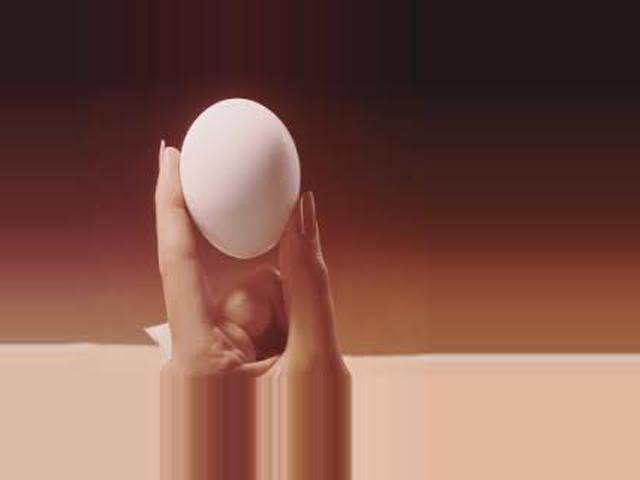egg: (178, 97, 301, 259)
